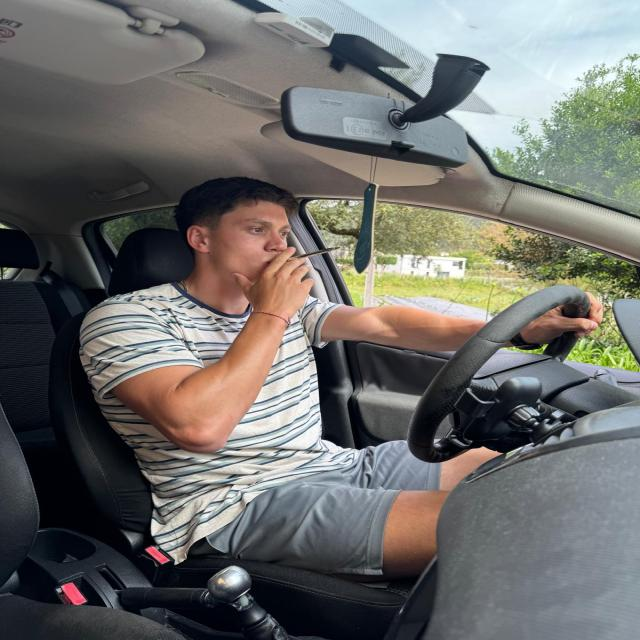Cigarette: (283, 243, 345, 264)
